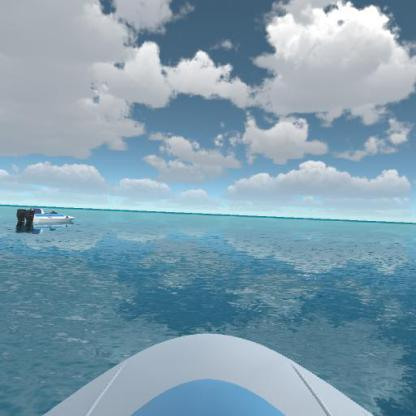usv1: (13, 202, 80, 233)
